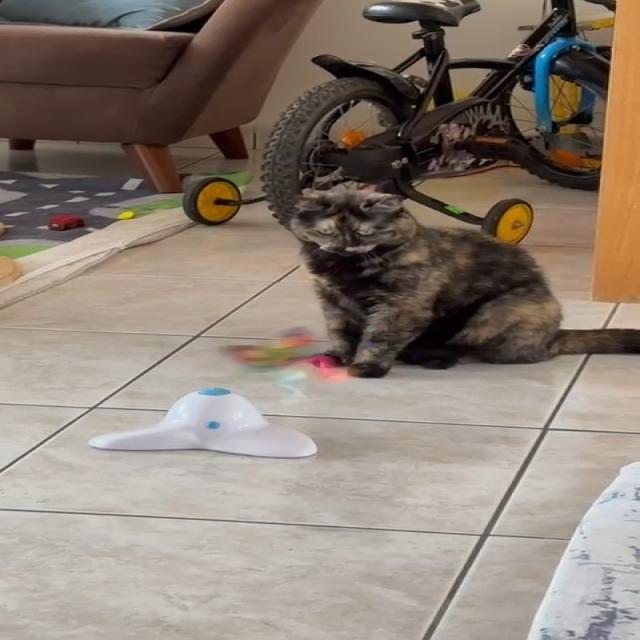authorized: (286, 187, 638, 378)
